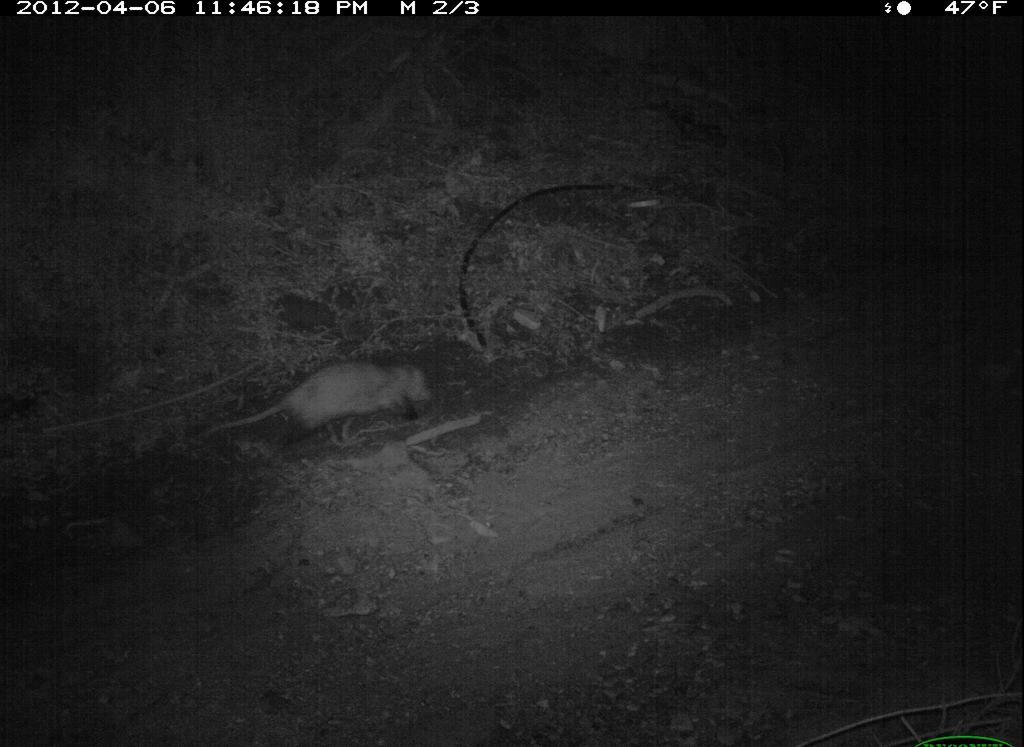opossum: (201, 350, 433, 456)
